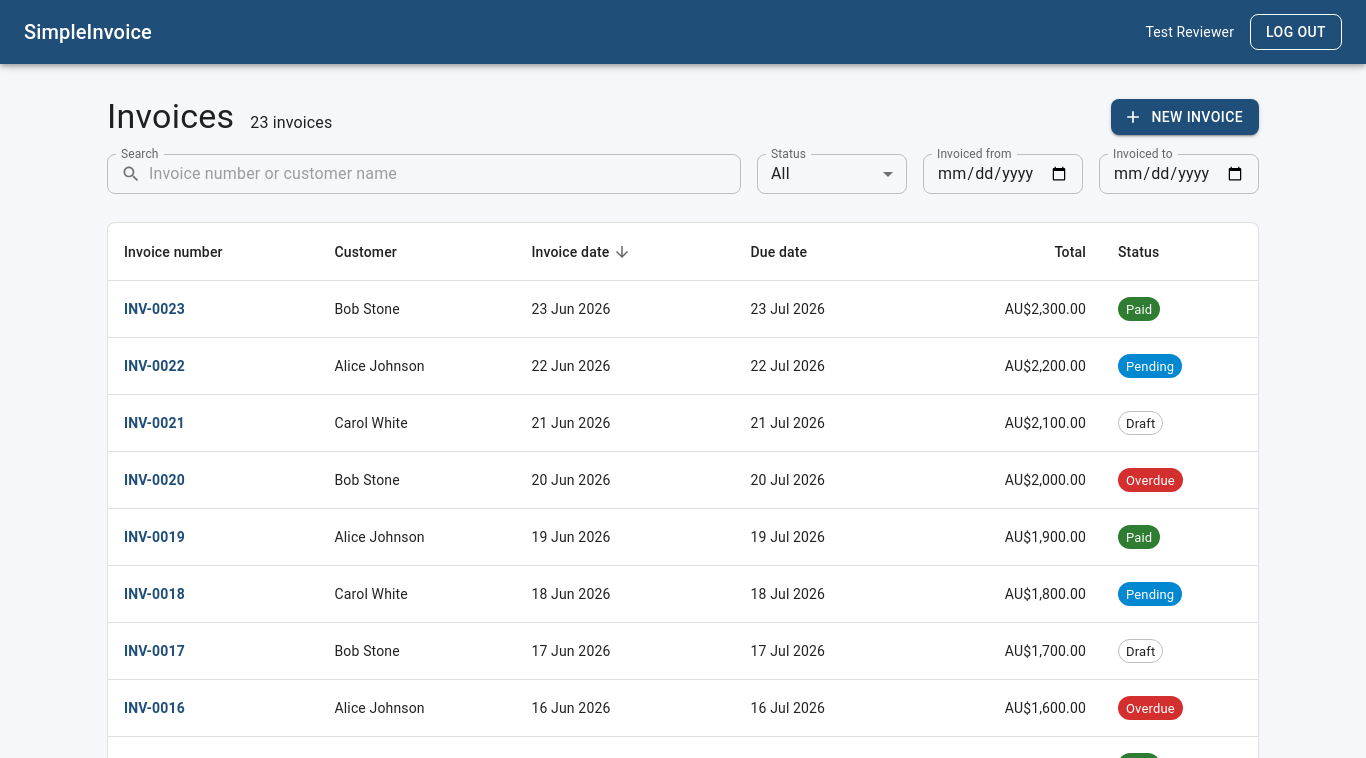
InvoiceListPage › status filter › filters by Overdue
expect the heading "Invoices" is shown: met, box [107,96,234,138]
Click the dropdown named "Status" at (780, 174), box [771,164,790,184]
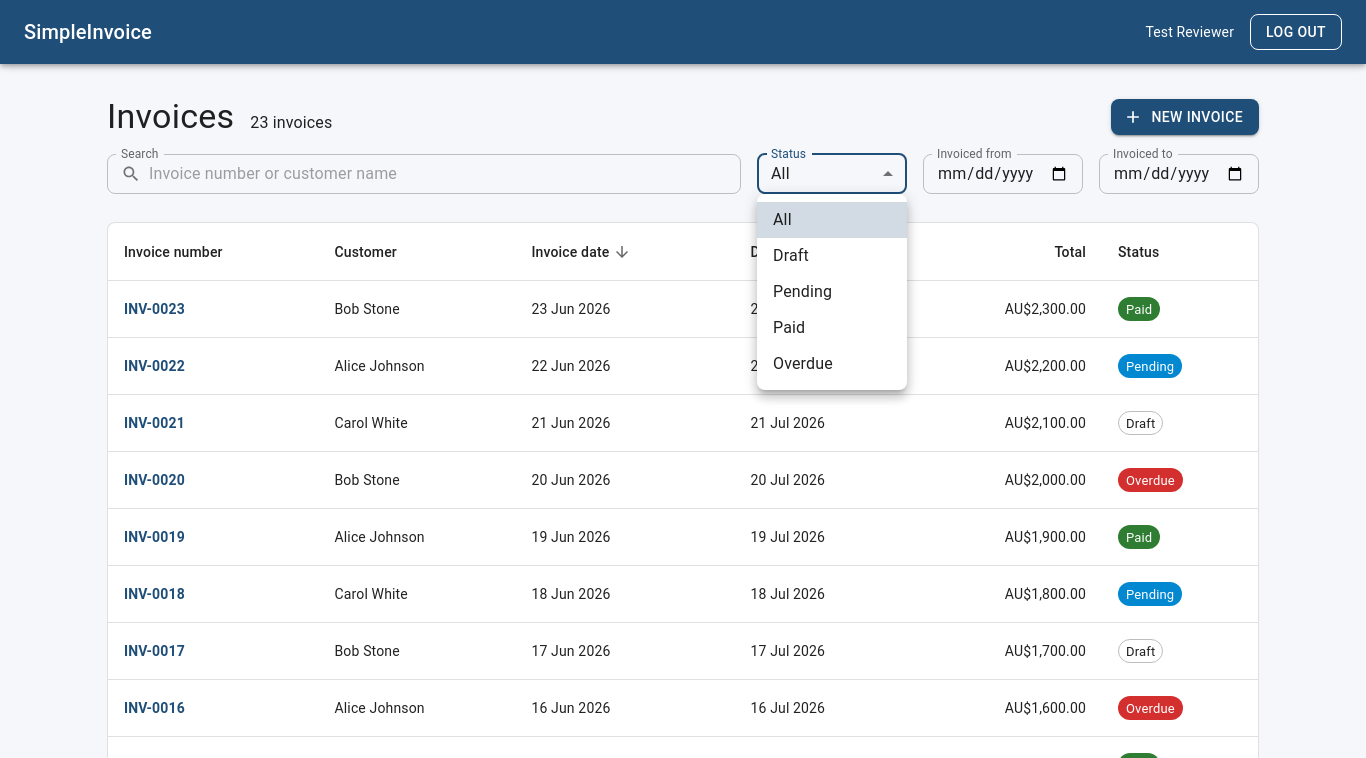
Click the option "Overdue" at (803, 364), box [773,354,833,373]
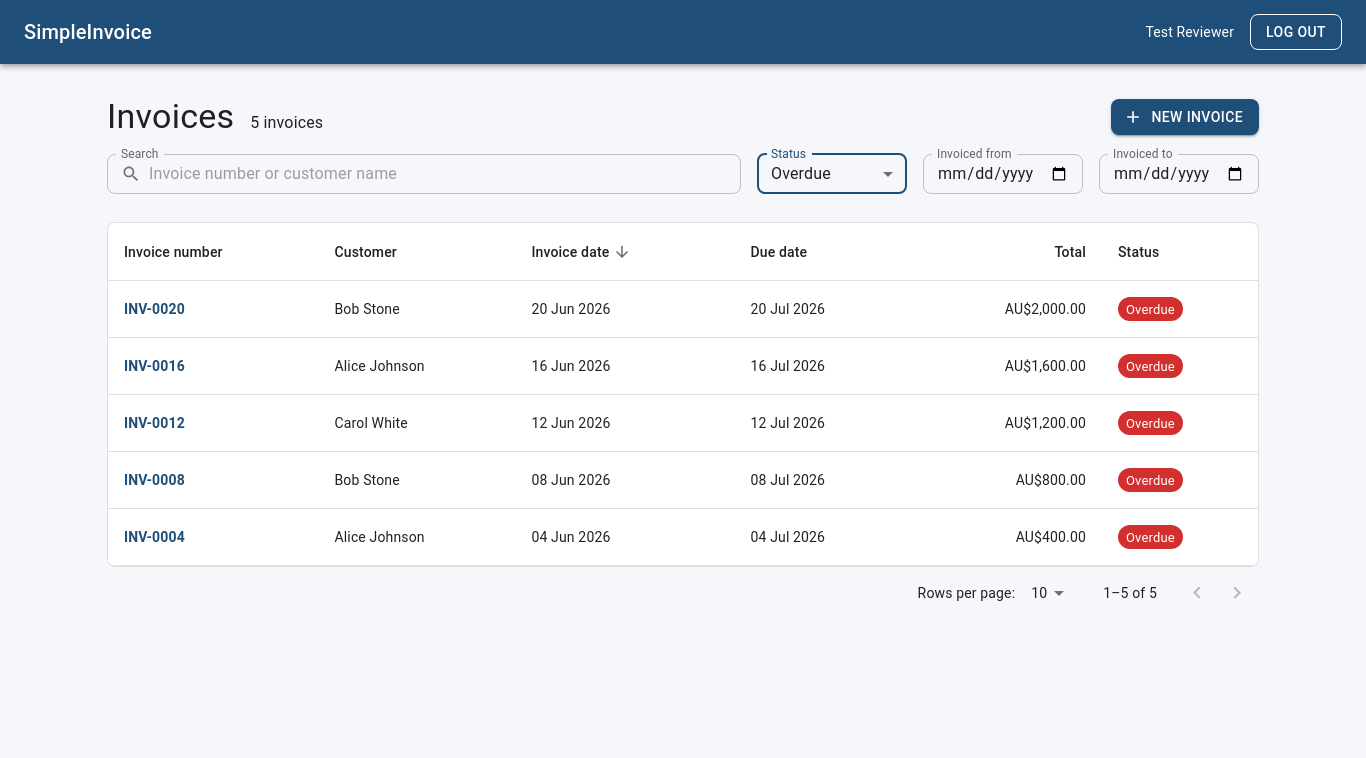
expect the dropdown named "Status" reads "Overdue": met, box [771,164,831,184]
expect the cell "Overdue" in the row of "INV-0012" is shown: met, box [1126,416,1175,430]
expect the cell "Overdue" in the row of "INV-0004" is shown: met, box [1126,530,1175,544]
